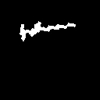double_crochet: (20, 22, 74, 40)
